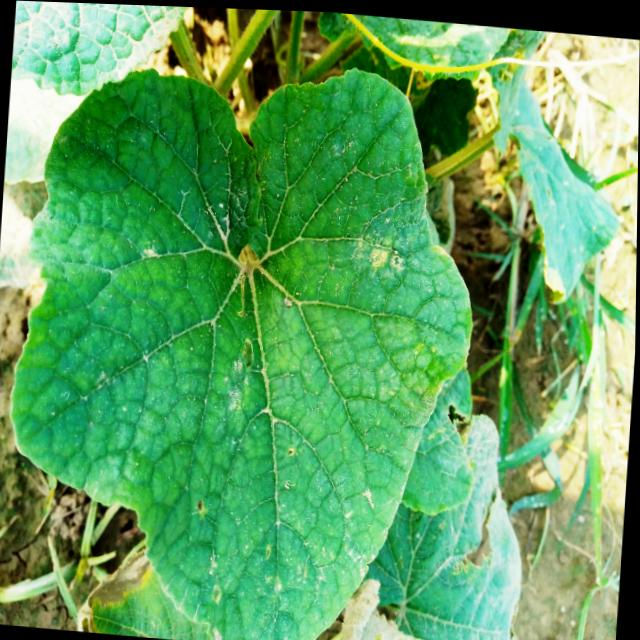Fresh-Leaf: (8, 64, 472, 640)
